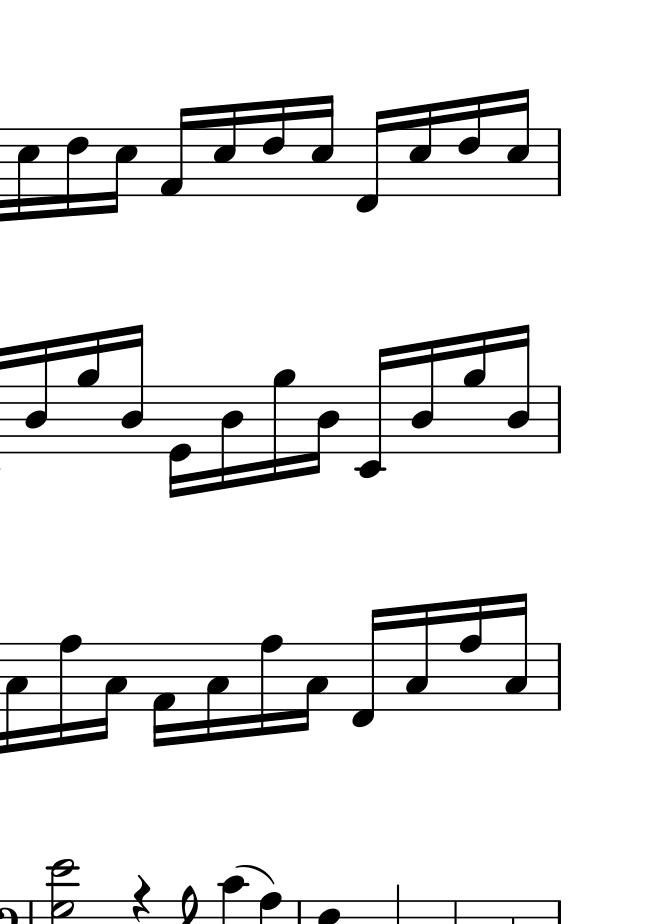16_-1: (350, 603, 385, 731), (354, 107, 390, 215)
16_-2: (356, 344, 392, 481)
16_0: (167, 384, 192, 500)
16_1: (157, 105, 193, 198), (151, 641, 176, 750)
16_3: (96, 641, 128, 741), (503, 591, 529, 714), (404, 602, 431, 713), (3, 641, 29, 755), (297, 641, 329, 733), (203, 641, 229, 745)
16_4: (119, 323, 146, 457), (506, 324, 531, 458), (409, 339, 437, 456), (24, 339, 50, 457), (217, 384, 245, 493), (308, 384, 340, 477)
16_5: (105, 126, 138, 216), (505, 86, 531, 199), (309, 92, 336, 198), (212, 102, 239, 198), (407, 101, 434, 197), (15, 127, 41, 222)
16_6: (457, 94, 485, 198), (261, 97, 288, 198), (64, 126, 90, 219)
16_8: (458, 597, 486, 713), (56, 633, 82, 749), (257, 634, 283, 740)
16_9: (461, 330, 489, 455), (75, 330, 102, 454), (270, 367, 296, 484)
Rests4: (129, 873, 152, 924)
Single_barline: (551, 386, 567, 454), (552, 642, 567, 712), (552, 129, 567, 196)
Slur: (239, 863, 274, 886)
